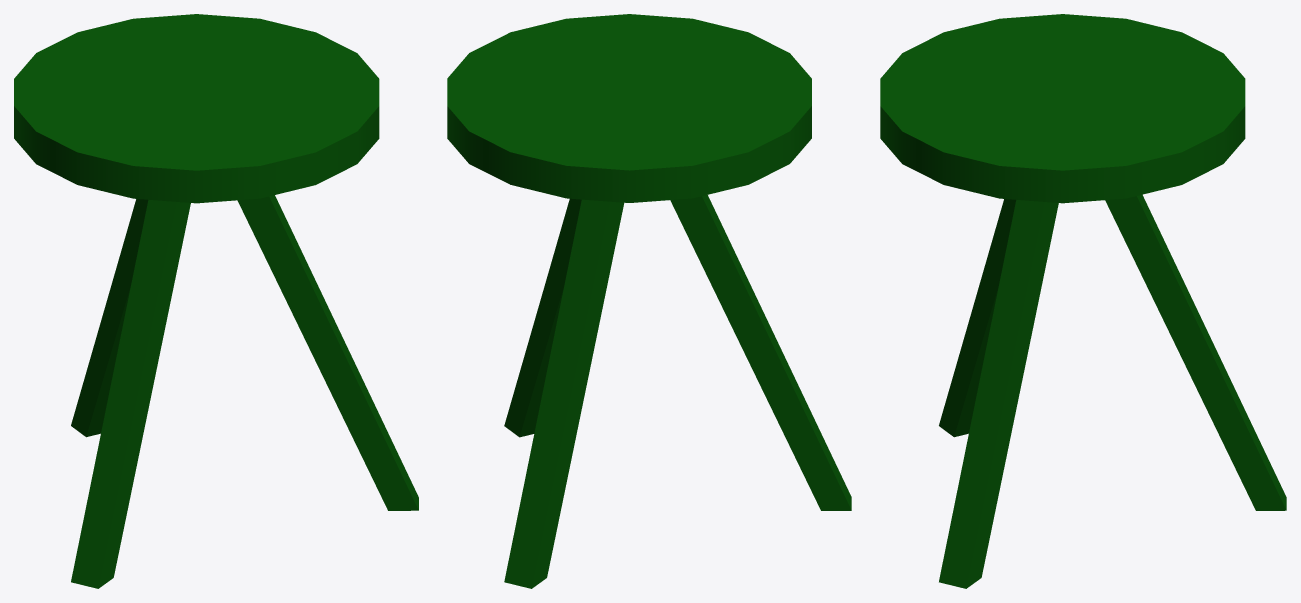
Rendered from Structure10.FBX.
3 views of the same model, side by side, from view 1: azimuth 30°, elevation 25°; view 2: azimuth 150°, elevation 25°; view 3: azimuth 270°, elevation 25° (orthographic).
Visible parts, largest first — view 1: SM_strucutre10_0; view 2: SM_strucutre10_0; view 3: SM_strucutre10_0.
Boxes of the visible parts, left/top/right/bottom form: SM_strucutre10_0: left=14, top=14, right=418, bottom=588; SM_strucutre10_0: left=447, top=14, right=851, bottom=588; SM_strucutre10_0: left=880, top=14, right=1286, bottom=588.
Bounding box in the file's own units: 37.93 × 38.36 × 42.92.
